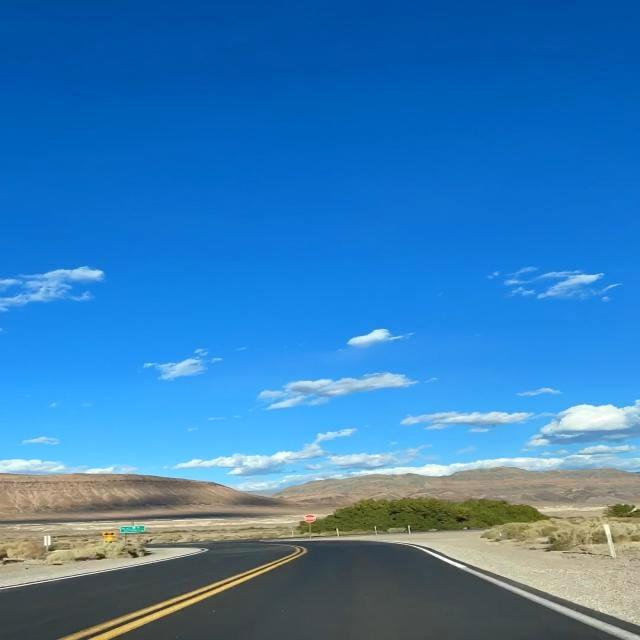lane: (402, 543, 640, 640), (59, 546, 306, 639)
road: (112, 541, 639, 639), (0, 542, 292, 639)
